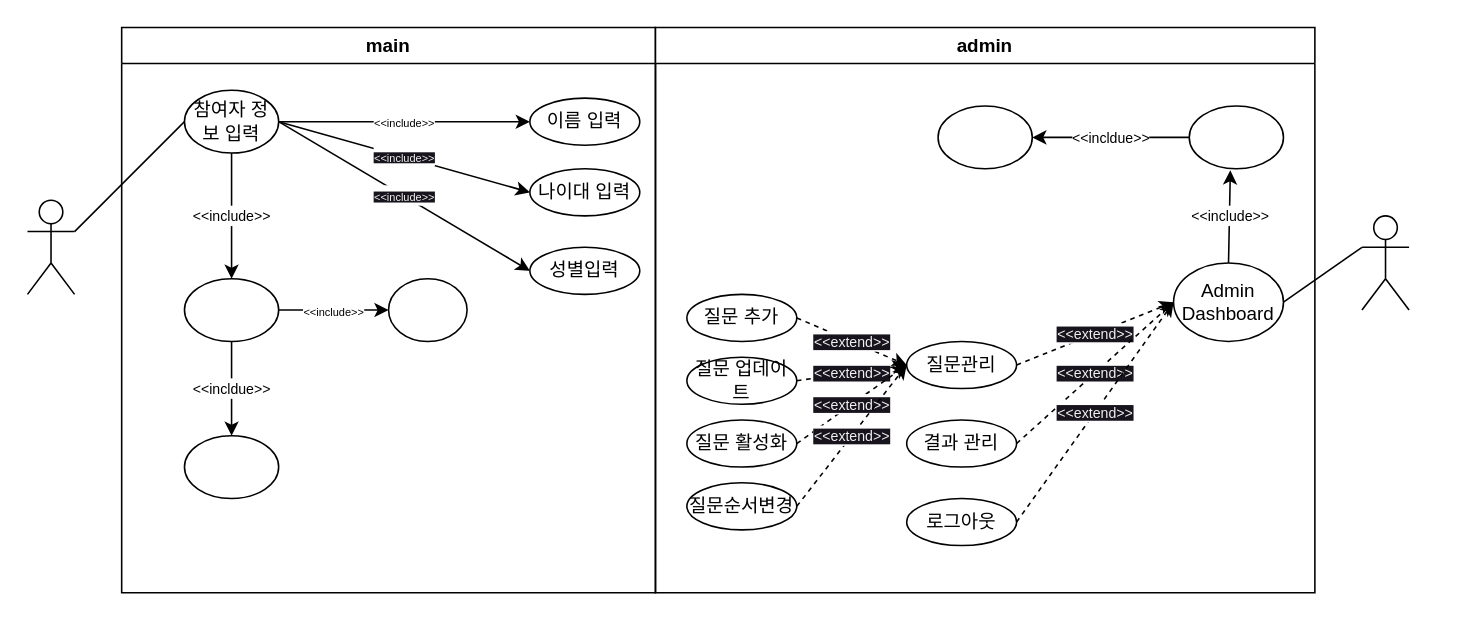
The diagram is 1466 pixels wide and 620 high, and some of its shapes have lost their labels. The shapes that lost their labels are listed below. From the top down, each one's box as (x1, y1, x2, y2) in pixels, then its label:
(937, 104, 1032, 169): ID,PW 입력
(1188, 104, 1283, 169): Admin Login
(26, 199, 75, 294): Actor
(1360, 214, 1409, 310): administrator
(183, 277, 279, 341): 질문 답변
(387, 277, 467, 341): Y/N
(183, 434, 279, 498): 결과 제출
